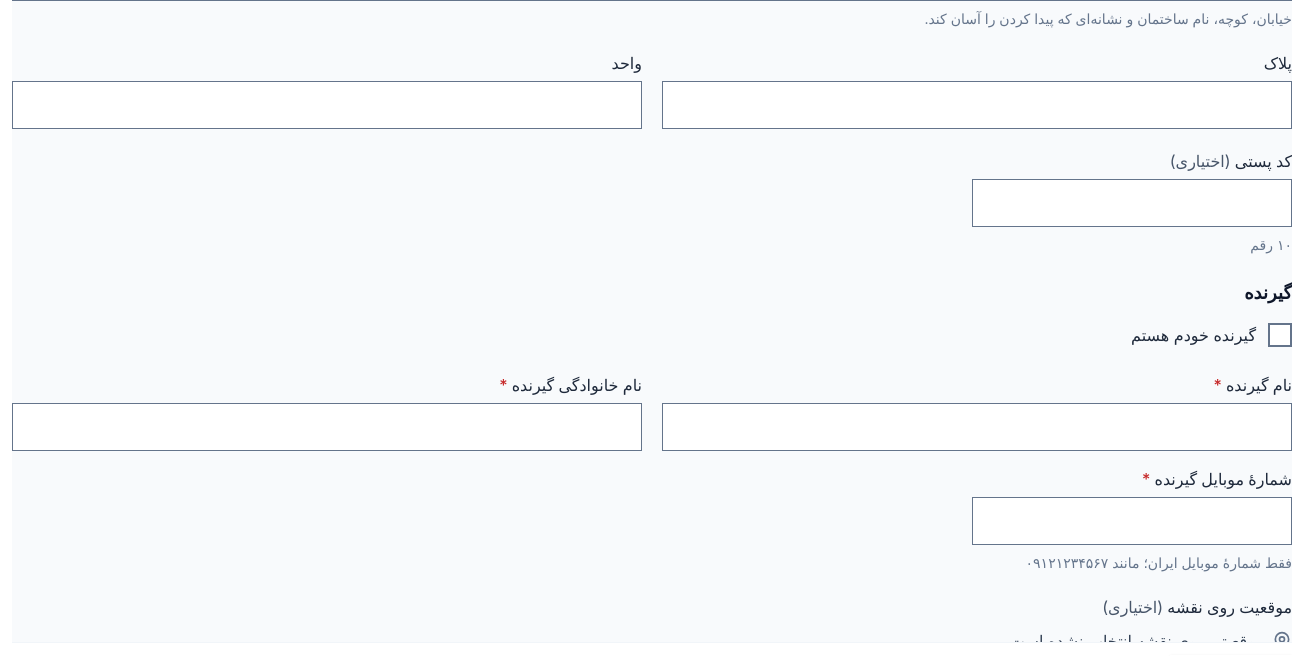
Test: AddressForm: a new address › «گیرنده خودم هستم» fills the receiver from the profile
(page scrolled)
Click the checkbox named "گیرنده خودم هستم". click: (1280, 335)
box: left=1268, top=323, right=1292, bottom=347
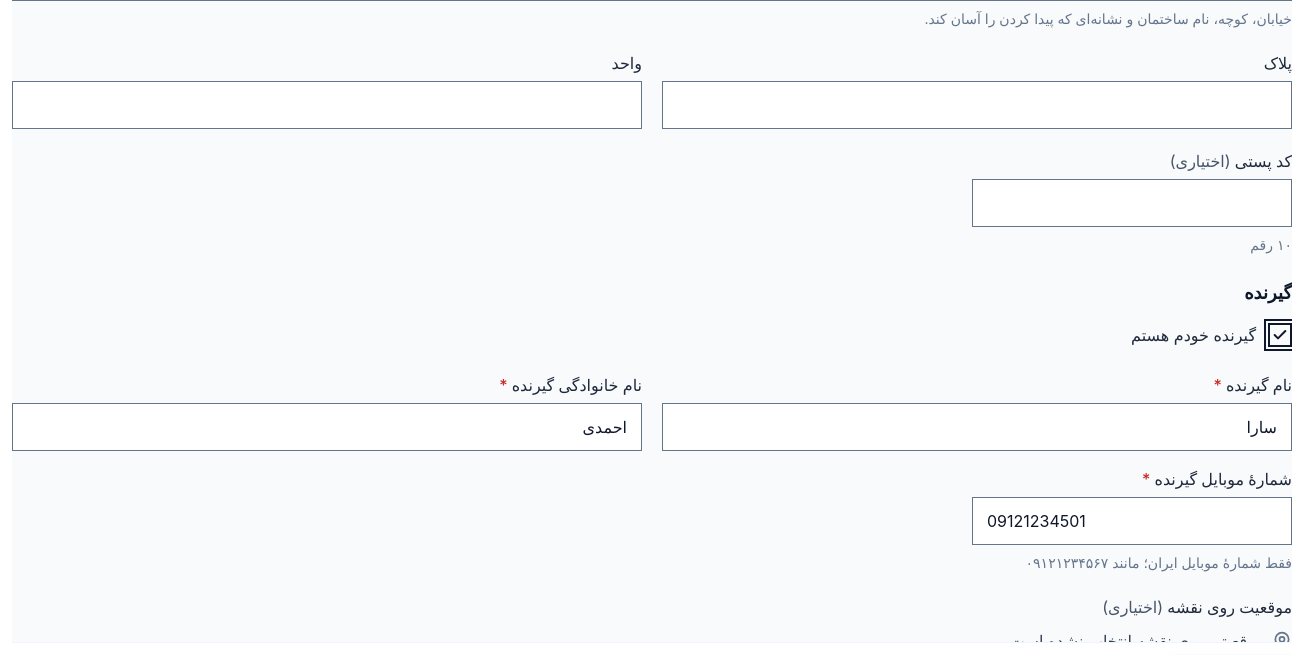
Result: the field labelled "نام گیرنده *" holds "سارا"
Result: the field labelled "نام خانوادگی گیرنده *" holds "احمدی" at left=13, top=404, right=641, bottom=450
Result: the field labelled "شمارهٔ موبایل گیرنده *" holds "09121234501" at left=973, top=498, right=1291, bottom=544
Note: Another receiver typed: no longer «myself».
Type "ء" into the field labelled "نام گیرنده *". click: (977, 427)
box: left=663, top=404, right=1291, bottom=450
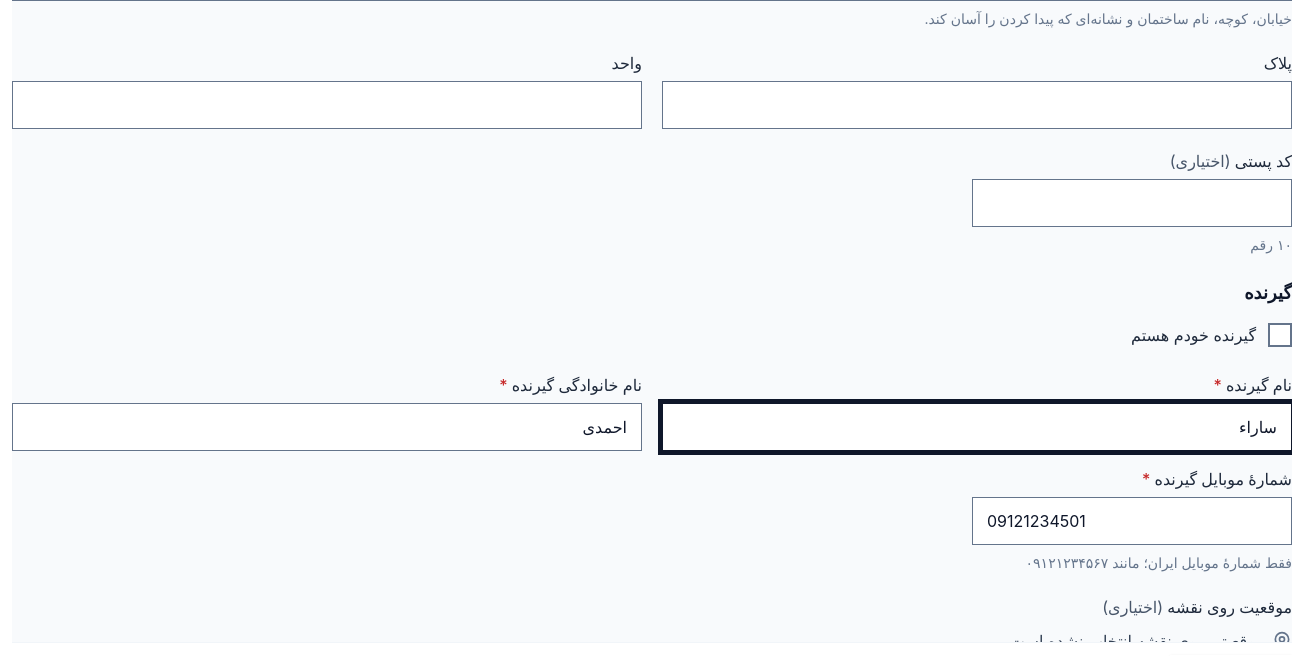
Result: the checkbox named "گیرنده خودم هستم" is not checked at left=1268, top=323, right=1292, bottom=347
